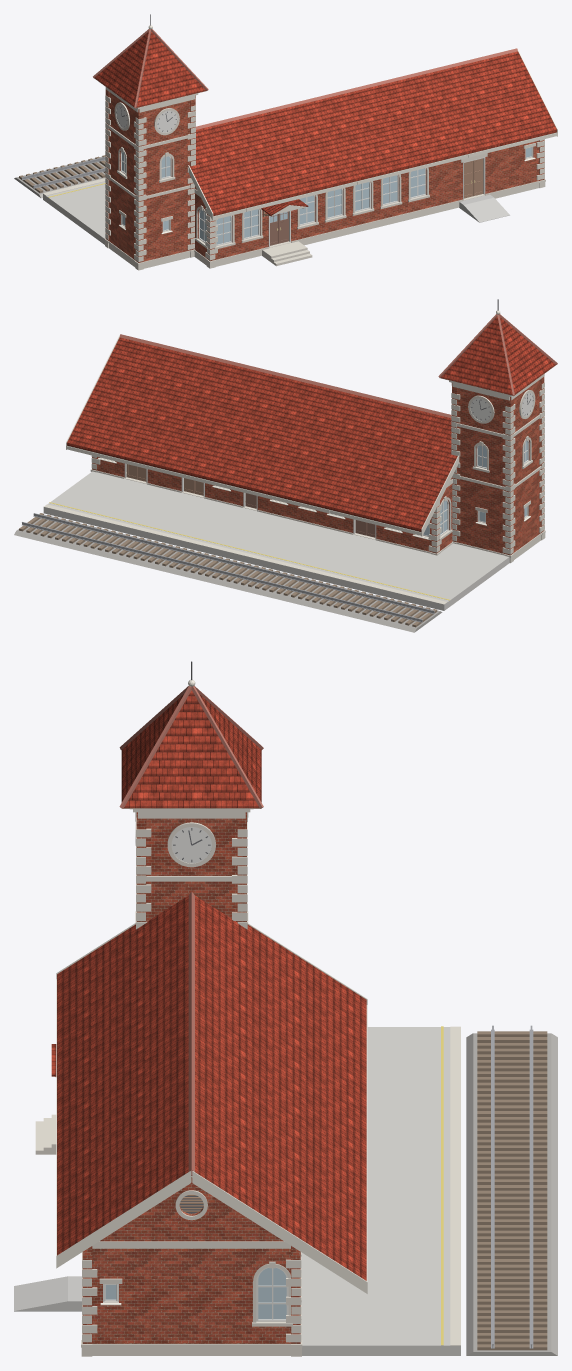
The model's file is building_assembled.glb.
3 views of the same model, one above another, from view 1: azimuth 30°, elevation 25°; view 2: azimuth 150°, elevation 25°; view 3: azimuth 270°, elevation 25° (orthographic). The views are drawn at different scales.
Visible parts, largest first — view 1: building_roof, building_brick, building_lime, building_glass, building_platform, building_trim, building_frame, building_ridge, building_tie, building_conc, building_door_freight, building_rail (+4 smaller); view 2: building_roof, building_platform, building_brick, building_lime, building_tie, building_ballast, building_rail, building_trim, building_ridge, building_frame, building_clockface, building_yellow (+4 smaller); view 3: building_roof, building_platform, building_brick, building_tie, building_lime, building_ballast, building_trim, building_ridge, building_rail, building_conc, building_glass, building_clockface (+1 smaller).
Boxes of the visible parts, x1,y1,x2,y2 form: building_roof: (94,31,556,215); building_brick: (105,89,544,262); building_lime: (43,25,545,270); building_glass: (122,147,531,244); building_platform: (43,181,105,244); building_trim: (119,49,557,234); building_frame: (120,147,533,246); building_ridge: (93,29,517,129); building_tie: (19,155,105,192); building_conc: (459,194,509,222); building_door_freight: (464,158,483,198); building_rail: (21,157,105,188); building_roof: (67,316,555,531); building_platform: (43,471,509,610); building_brick: (92,377,544,555); building_lime: (44,310,545,604); building_tie: (19,513,437,627); building_ballast: (14,514,442,632); building_rail: (22,513,434,622); building_trim: (66,335,530,540); building_ridge: (120,314,557,417); building_frame: (100,440,529,538); building_clockface: (470,392,533,421); building_yellow: (49,502,449,600); building_roof: (51,690,366,1280); building_platform: (301,1027,460,1355); building_brick: (82,812,300,1343); building_tie: (477,1031,547,1350); building_lime: (35,679,460,1356); building_ballast: (466,1033,557,1355); building_trim: (56,923,367,1319); building_ridge: (119,686,263,1175); building_rail: (491,1025,533,1348); building_conc: (14,1276,81,1311); building_glass: (105,1268,286,1319); building_clockface: (171,827,211,863).
Bounding box in the file's own units: 29.13 × 16.32 × 20.2.
25 materials, 3 textured.
